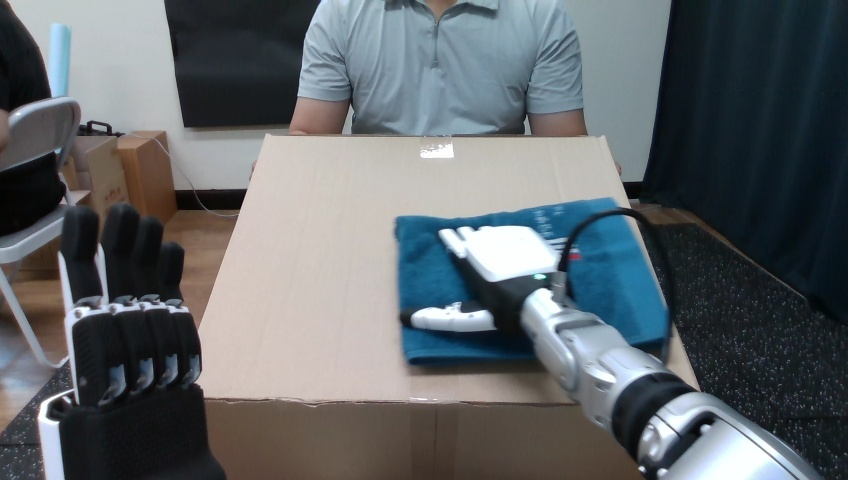left robot hand: (641, 394, 814, 478)
